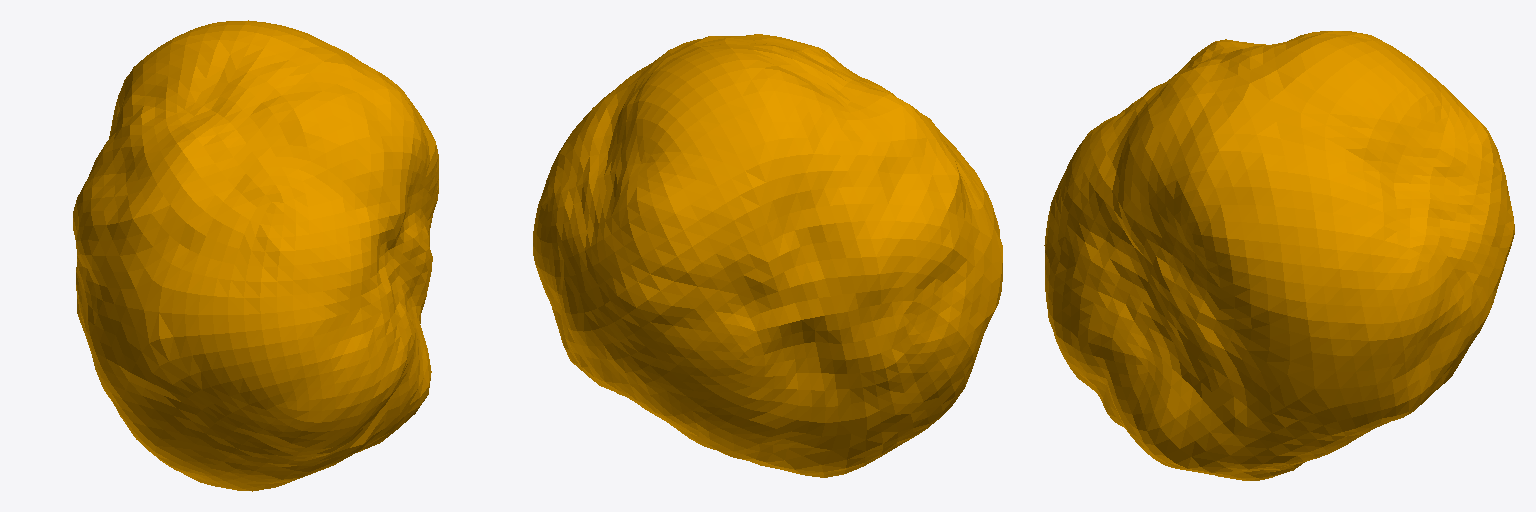
The robot description file, URDF, robot "rock":
<?xml version="1.0" ?>
<robot name="rock">
  <link name="rock">
    <inertial>
      <mass value="0.25"/>
      <origin rpy="0 0 0" xyz="0 0 0"/>
      <inertia ixx="0.00025" ixy="0" ixz="0" iyy="0.00025" iyz="0" izz="0.00025"/>
    </inertial>
    <collision name="rock_collision">
      <origin rpy="0 0 0" xyz="0 0 0"/>
      <geometry>
        <mesh filename="package://rocks/collision/41.stl" scale="1 1 1"/>
      </geometry>
    </collision>
    <visual name="rock_visual">
      <origin rpy="0 0 0" xyz="0 0 0"/>
      <geometry>
        <mesh filename="package://rocks/visual/41.dae" scale="1 1 1"/>
      </geometry>
    </visual>
  </link>
</robot>

--- Render facts (derived) ---
The picture shows the robot from 3 angles, left to right: view 1: azimuth 30°, elevation 25°; view 2: azimuth 150°, elevation 25°; view 3: azimuth 270°, elevation 25°; orthographic projection.
Model rock with 1 links and 0 joints (none), rooted at rock, posed all joints at 0.
Visible links, largest first — view 1: rock; view 2: rock; view 3: rock.
Link boxes in pixels (x1,y1,x2,y2): rock: (73,20,438,491); rock: (533,34,1002,477); rock: (1044,31,1514,480).
Bounding box of the posed robot: 0.0847 × 0.091 × 0.0921 m (x, y, z).
1 mesh visuals loaded from 1 distinct referenced files (1 Collada DAE).